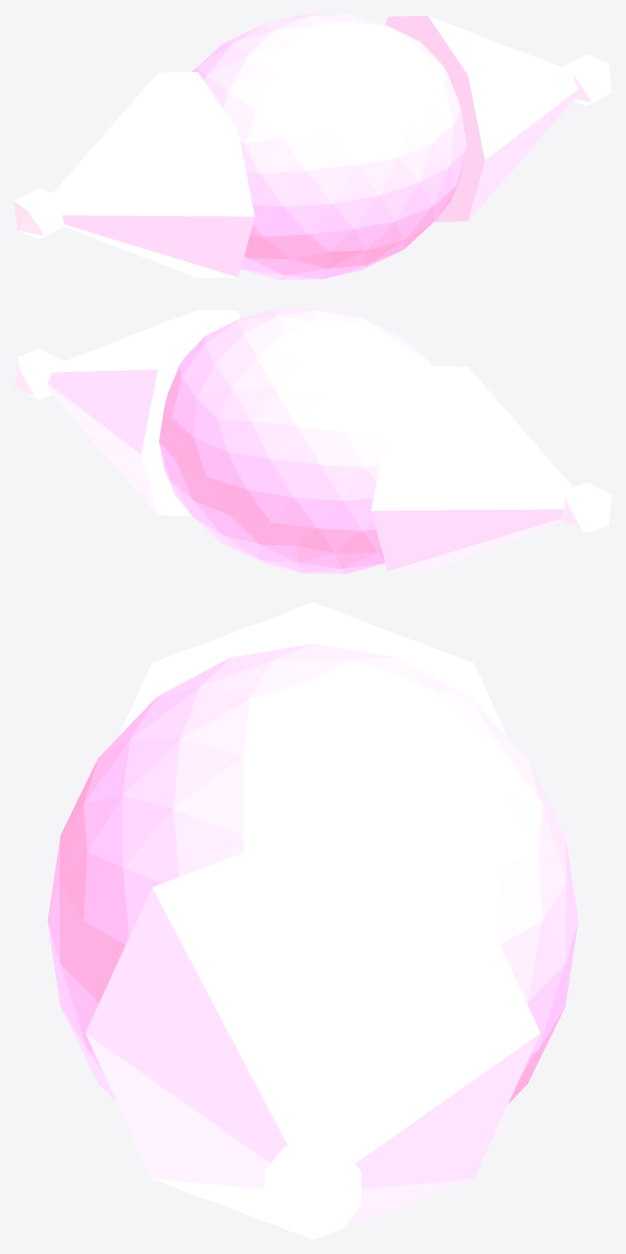
File: halloween_candy.glb
3 views of the same model, one above another, from view 1: azimuth 30°, elevation 25°; view 2: azimuth 150°, elevation 25°; view 3: azimuth 270°, elevation 25° (orthographic). The views are drawn at different scales.
Visible parts, largest first — view 1: Candy; view 2: Candy; view 3: Candy.
Part boxes in pixels (box(x1,y1,x2,y2)): Candy: box(14, 14, 611, 279); Candy: box(14, 308, 611, 573); Candy: box(47, 602, 578, 1239).
Size of the model in its own units: 2.16 by 0.84 by 0.84.
